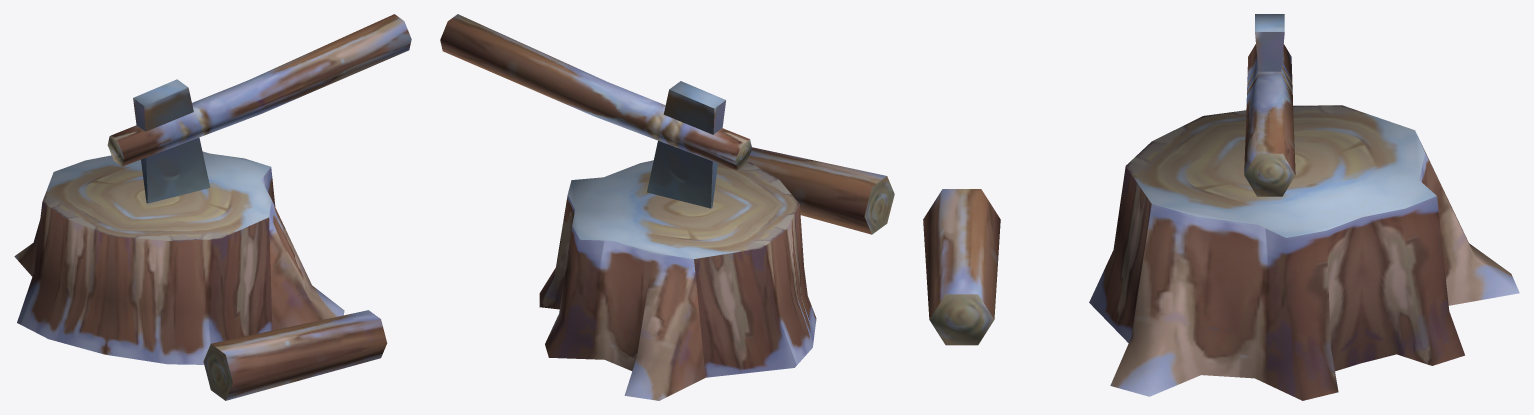
File: Map_10_wood02.FBX
3 views of the same model, side by side, from view 1: azimuth 30°, elevation 25°; view 2: azimuth 150°, elevation 25°; view 3: azimuth 270°, elevation 25° (orthographic). The views are drawn at different scales.
Parts seen in each view (by area): view 1: Map_10_wood02; view 2: Map_10_wood02; view 3: Map_10_wood02.
Boxes of the visible parts, x1=… form: Map_10_wood02: x1=14, y1=14, x2=411, y2=400; Map_10_wood02: x1=440, y1=14, x2=894, y2=400; Map_10_wood02: x1=923, y1=14, x2=1519, y2=400.
Size of the model in its own units: 120 by 74.39 by 130.
